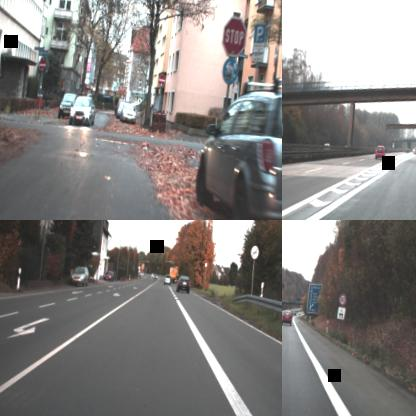NO ENTRY: (157, 73, 165, 86), (38, 57, 46, 70)
STOP: (220, 15, 247, 58)
go left or straight: (220, 56, 239, 84)
restriction ends 80: (250, 245, 258, 259)
speed limit 80: (338, 292, 346, 306)
